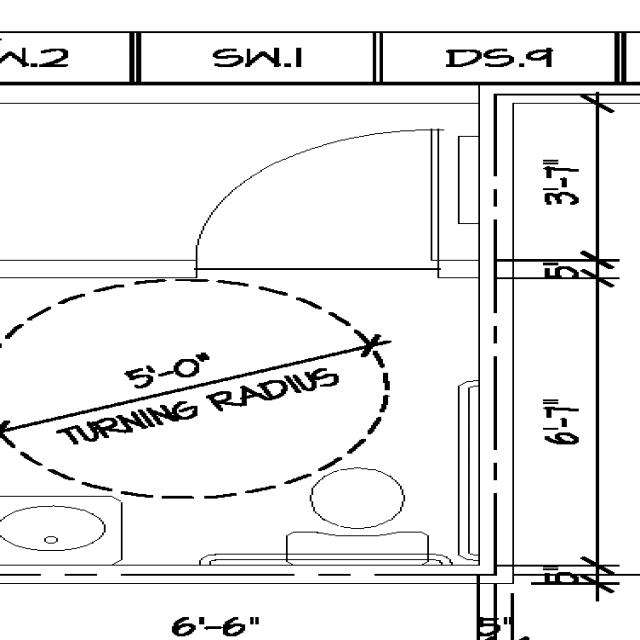Doors: (185, 126, 459, 278)
